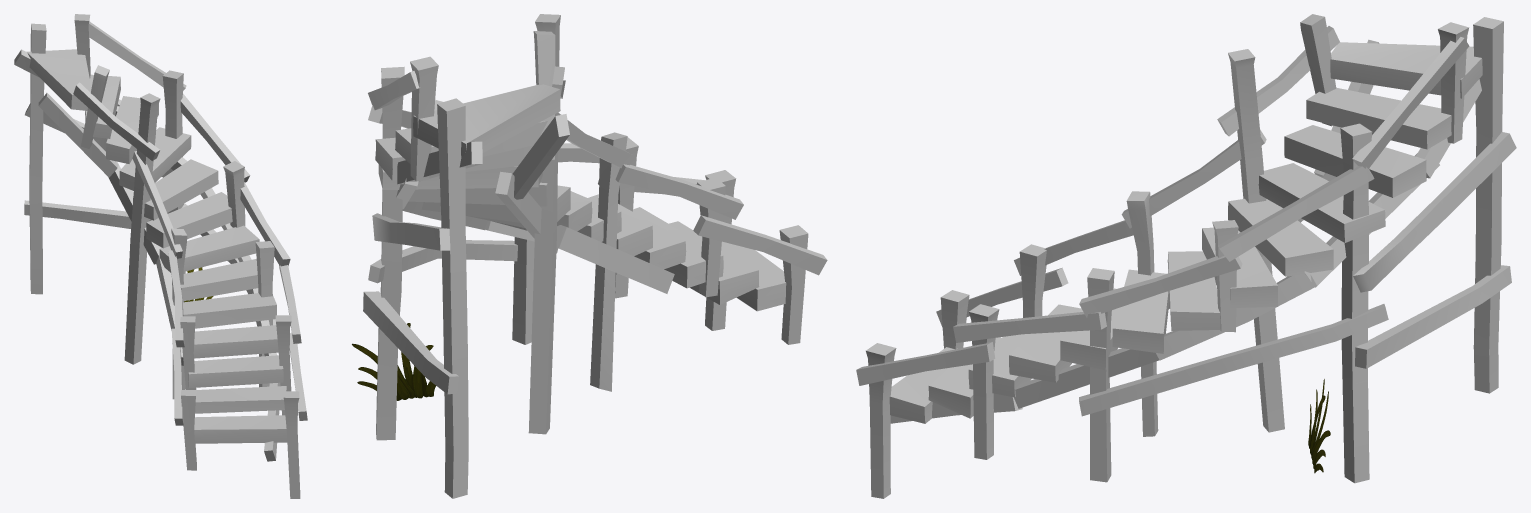
Rendered from Spiral_stairs.FBX.
3 views of the same model, side by side, from view 1: azimuth 30°, elevation 25°; view 2: azimuth 150°, elevation 25°; view 3: azimuth 270°, elevation 25° (orthographic). The views are drawn at different scales.
Parts seen in each view (by area): view 1: Spiral_stairs; view 2: Spiral_stairs; view 3: Spiral_stairs.
Boxes of the visible parts, <box> form: Spiral_stairs: <box>14,14,307,498</box>; Spiral_stairs: <box>352,14,827,498</box>; Spiral_stairs: <box>856,14,1516,498</box>.
Size of the model in its own units: 47.96 by 102 by 78.98.
